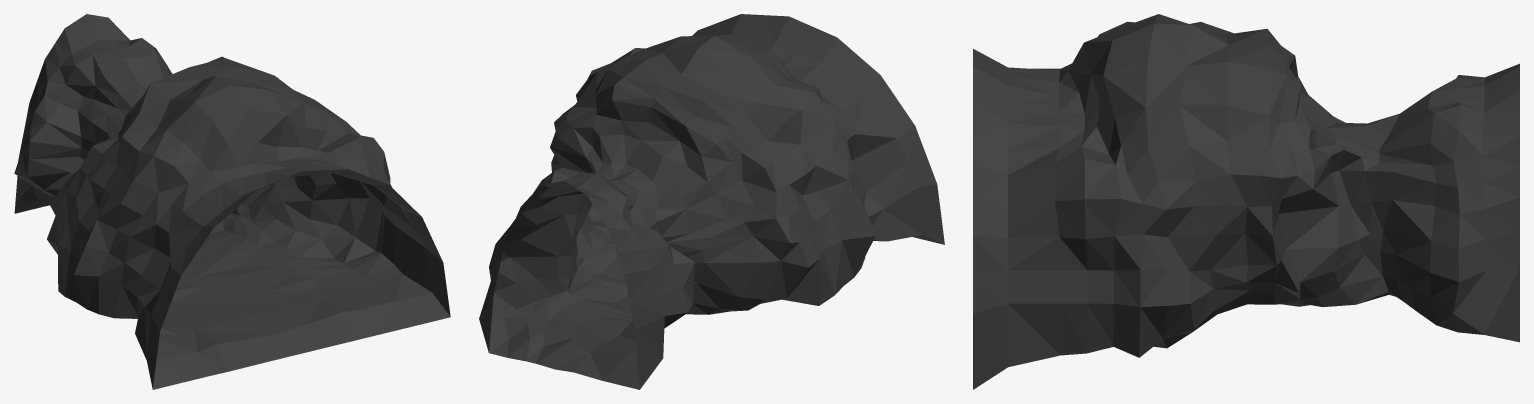
File: Cave_Door_A.fbx
The picture shows the model from 3 angles, left to right: view 1: azimuth 30°, elevation 25°; view 2: azimuth 150°, elevation 25°; view 3: azimuth 270°, elevation 25°; orthographic projection. The views are drawn at different scales.
Visible parts, largest first — view 1: pCylinder517; view 2: pCylinder517; view 3: pCylinder517.
Part boxes in pixels (left/top/right/bottom): pCylinder517: left=14, top=14, right=450, bottom=389; pCylinder517: left=479, top=14, right=944, bottom=389; pCylinder517: left=973, top=14, right=1519, bottom=389.
Bounding box in the file's own units: 8.43 × 5.72 × 10.32.
